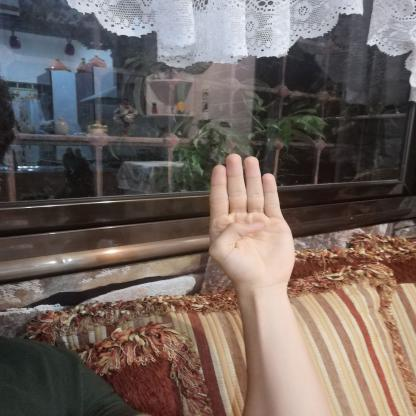KAAF: (193, 145, 310, 298)
